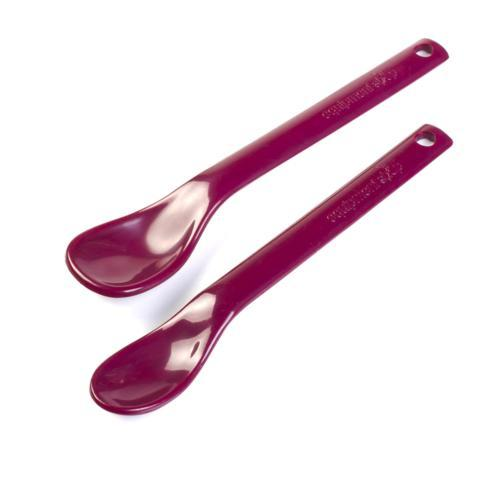Spoon: (89, 124, 453, 415), (65, 38, 449, 298)
